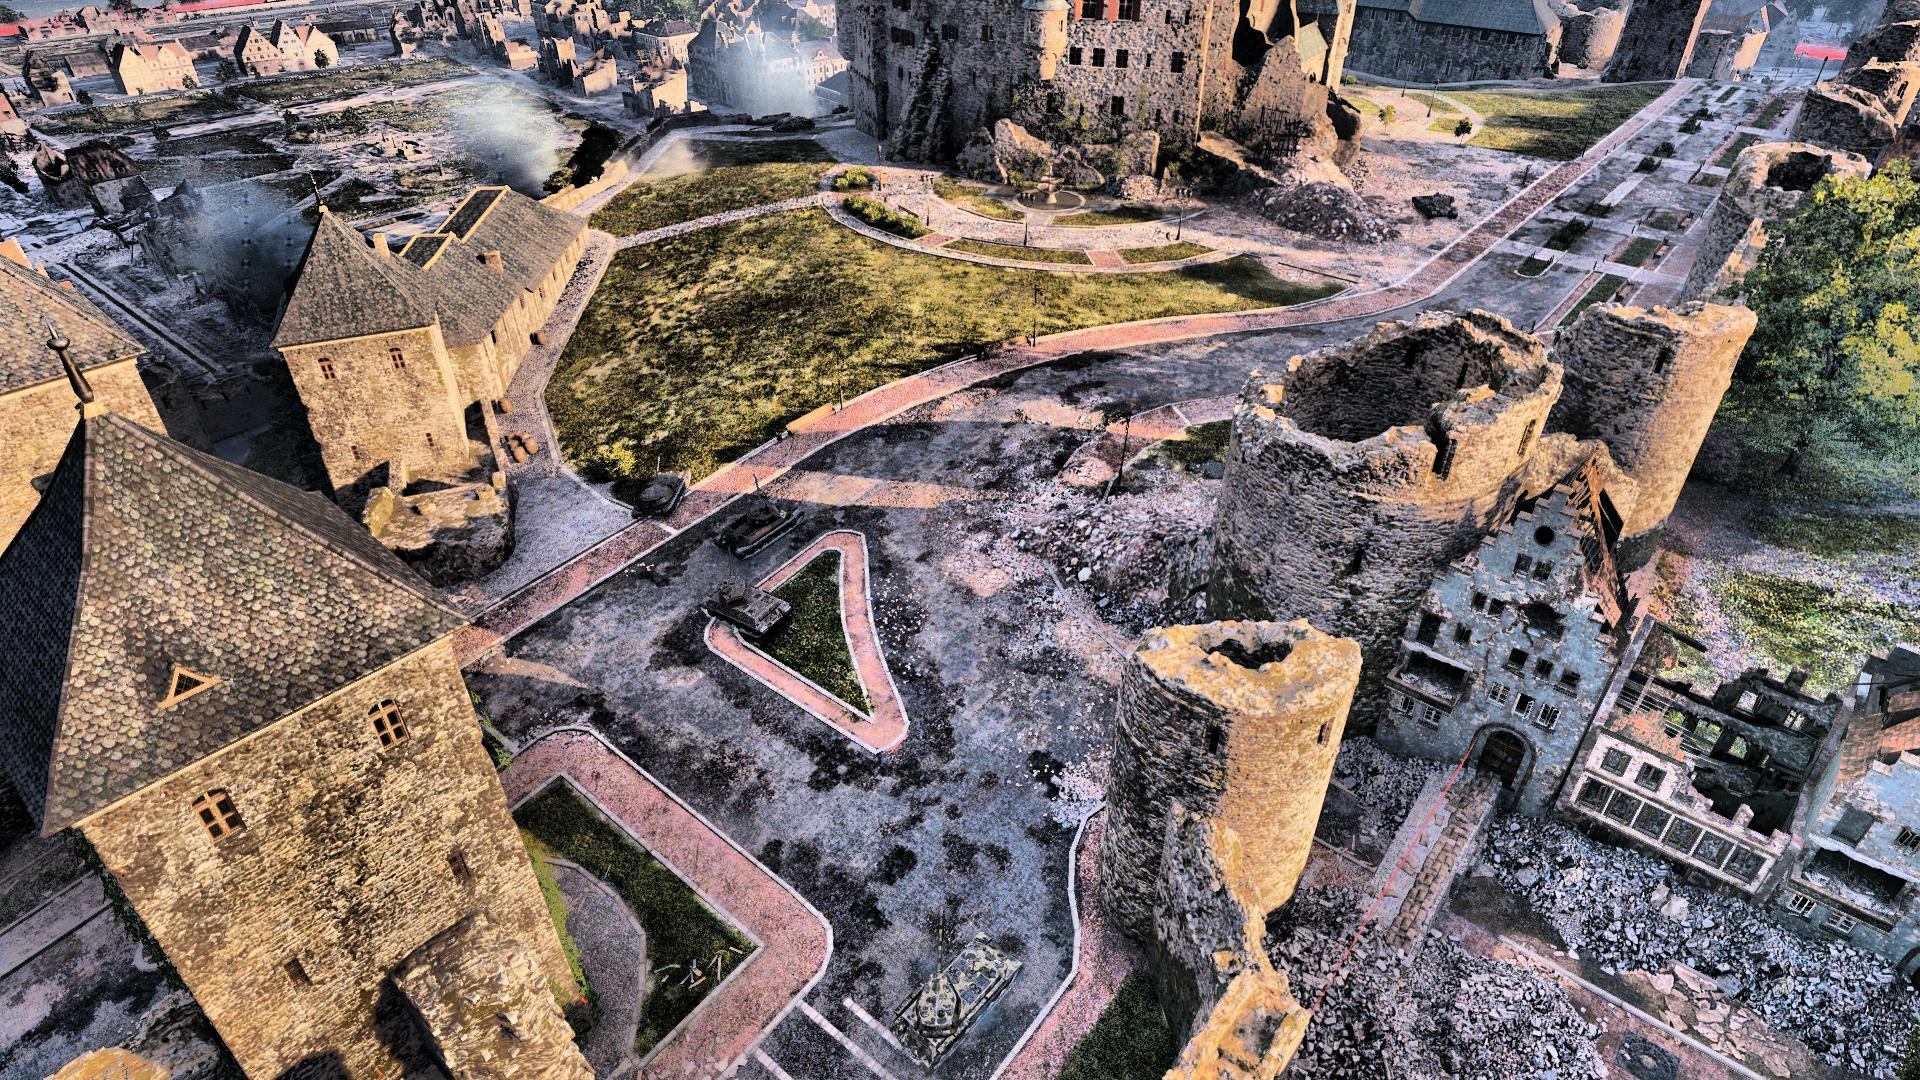military-vehicle: (886, 903, 1022, 1067), (713, 472, 806, 559), (696, 564, 793, 640), (630, 458, 692, 521), (1411, 190, 1460, 222), (748, 115, 816, 135)
